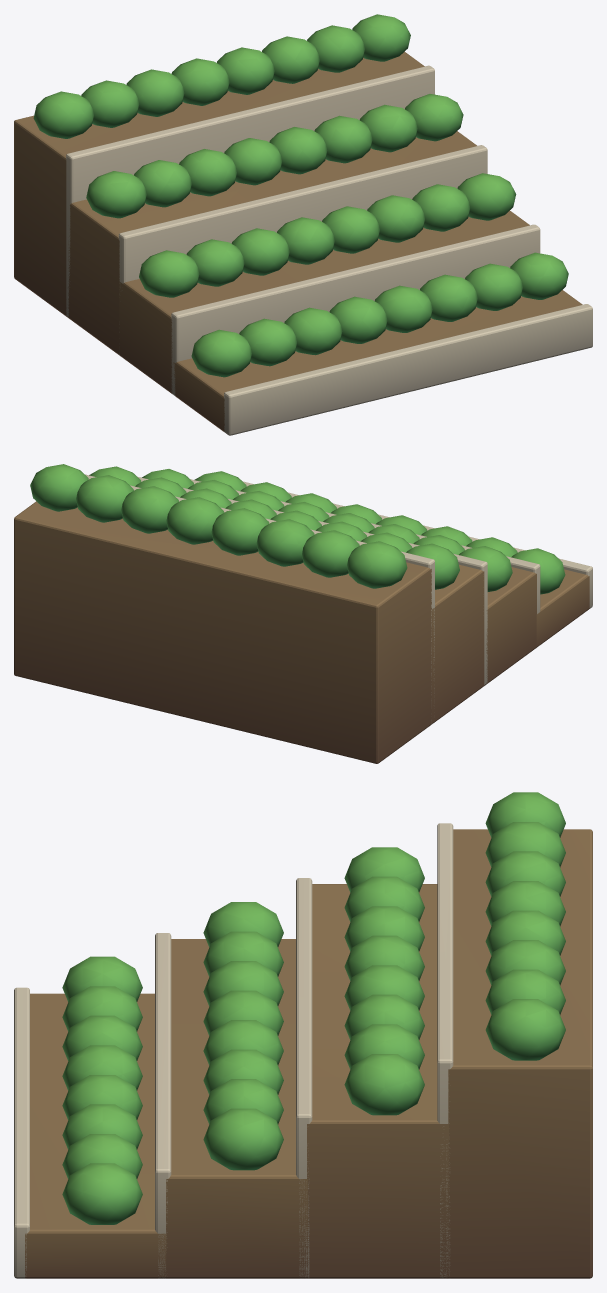
Rendered from tea_terrace.glb.
3 renders of one model, top to bottom at view 1: azimuth 30°, elevation 25°; view 2: azimuth 150°, elevation 25°; view 3: azimuth 270°, elevation 25°, orthographic. The views are drawn at different scales.
Parts seen in each view (by area): view 1: Terrace; view 2: Terrace; view 3: Terrace.
Boxes of the visible parts, box(x1,y1,x2,y2) form: Terrace: box(14, 14, 592, 435); Terrace: box(14, 464, 592, 763); Terrace: box(14, 792, 592, 1278).
Bounding box in the file's own units: 4.24 × 2.16 × 4.31.
